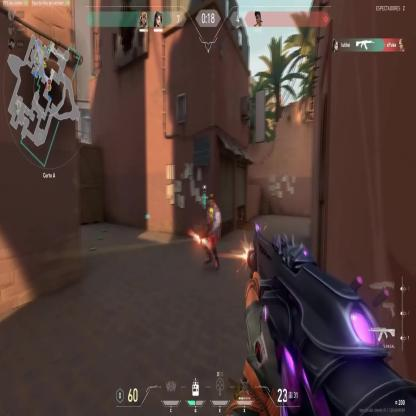enemy: (204, 194, 222, 271)
enemy_head: (208, 194, 216, 208)
